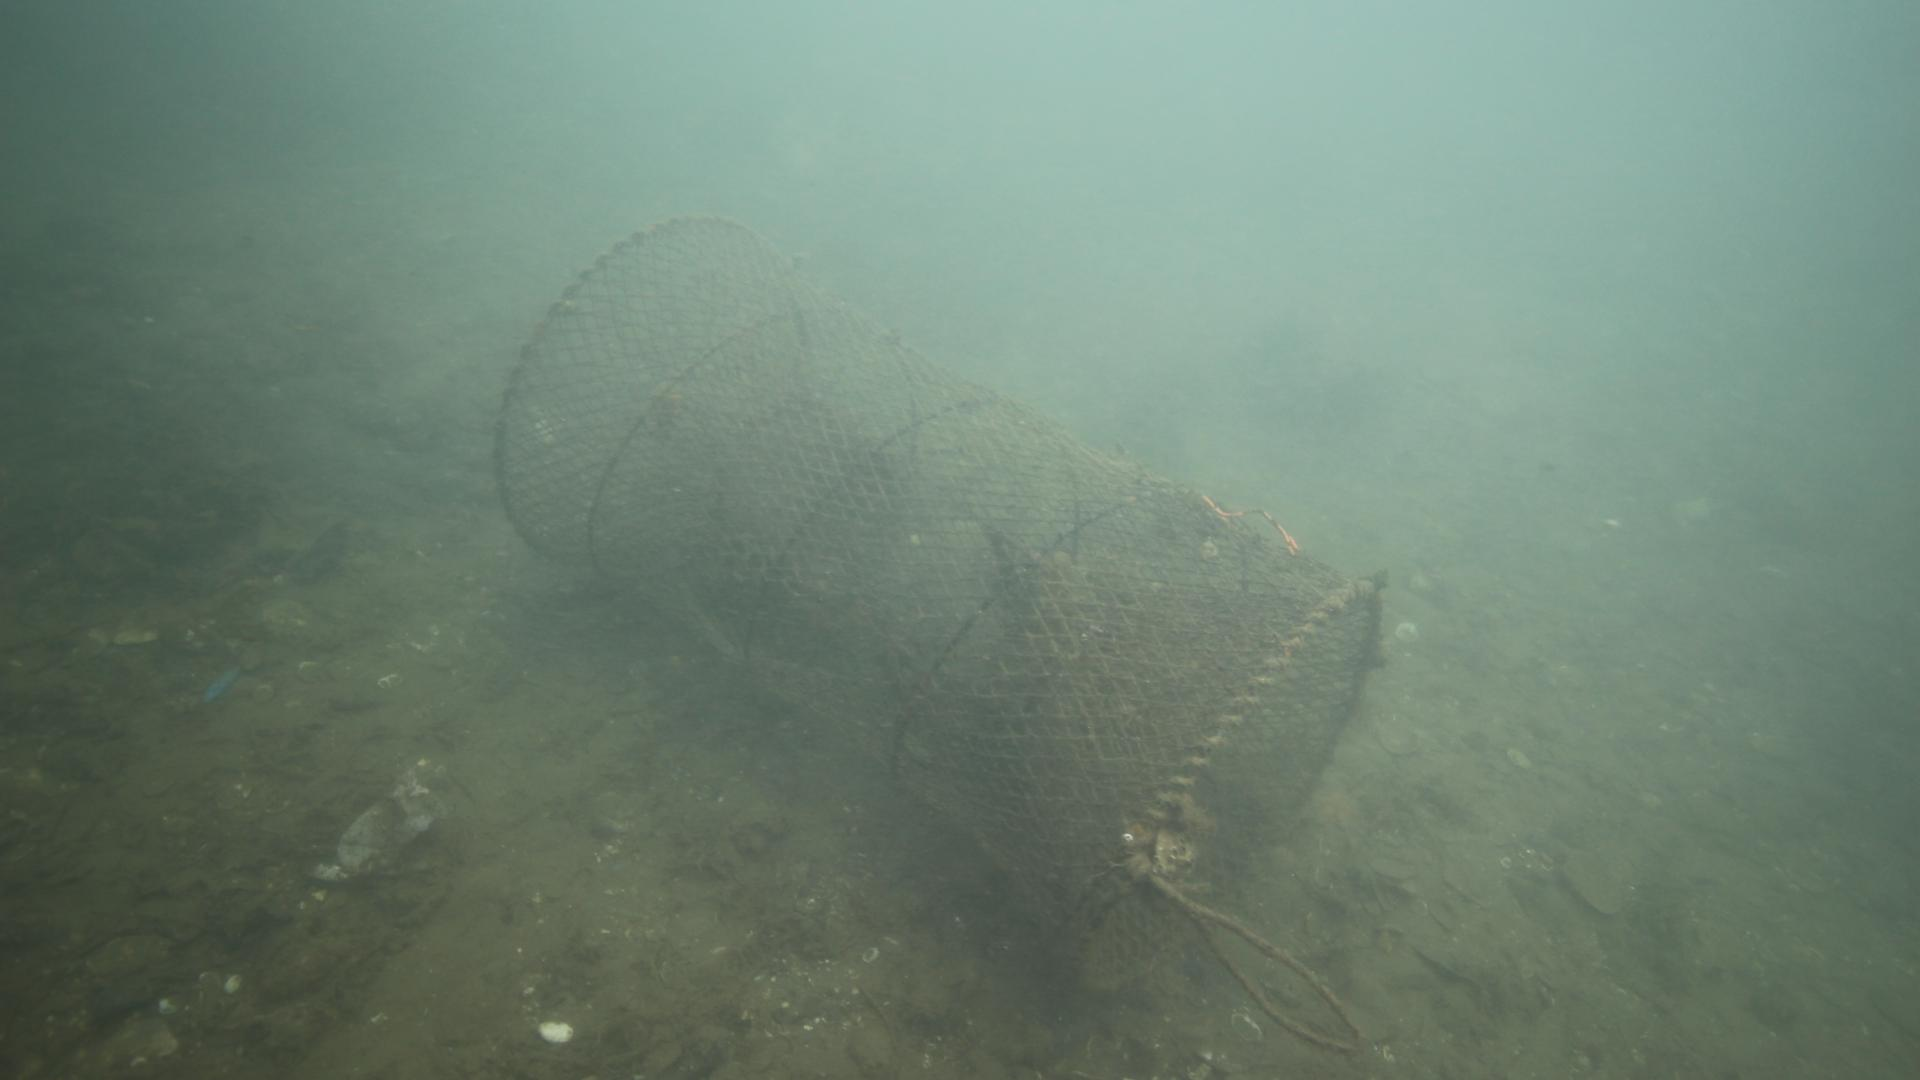bundle of ropes: (1139, 869, 1358, 1048)
spring fish trap: (492, 211, 1389, 997)
